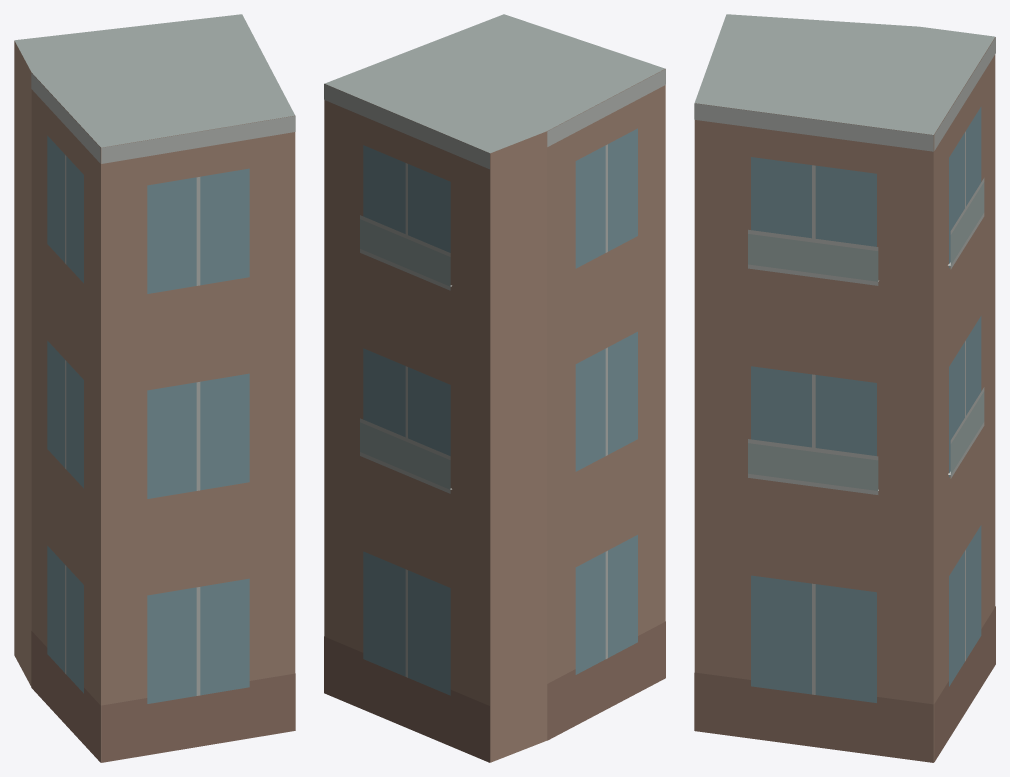
File: survey-upis-33006518.glb
3 renders of one model, left to right at view 1: azimuth 30°, elevation 25°; view 2: azimuth 150°, elevation 25°; view 3: azimuth 270°, elevation 25°, orthographic. The views are drawn at different scales.
Parts seen in each view (by area): view 1: survey-upis-33006518.tmp; view 2: survey-upis-33006518.tmp; view 3: survey-upis-33006518.tmp.
Part boxes in pixels (<box>): survey-upis-33006518.tmp: <box>14,14,295,762</box>; survey-upis-33006518.tmp: <box>324,14,665,762</box>; survey-upis-33006518.tmp: <box>694,14,995,762</box>.
Size of the model in its own units: 3.79 by 9.15 by 3.99.
